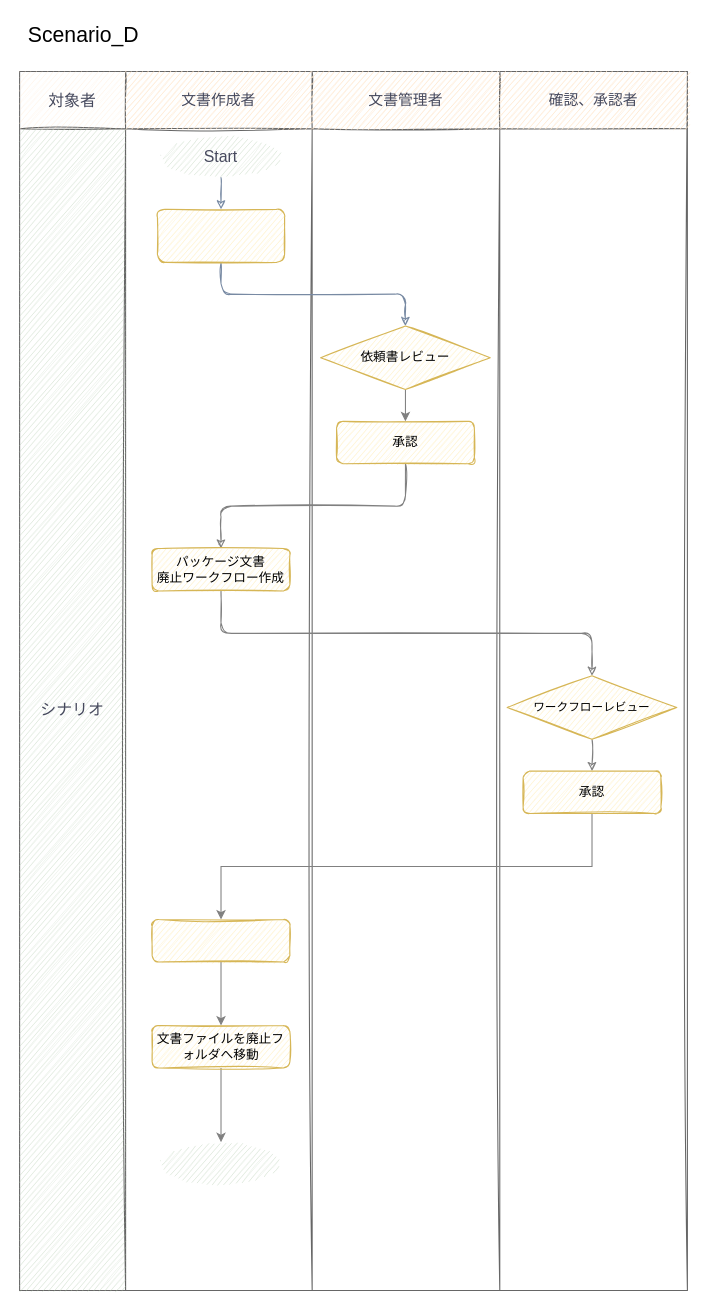
Image size: 706x1309. Some labels were removed from this diagram. The shapes that lost their labels are listed below. From the top down, each one's centre as x and y in pixels, then its label:
(x=220, y=235): 管理文書廃止依頼書ワークフロー作成
(x=220, y=940): 管理文書廃止
(x=220, y=1163): End
